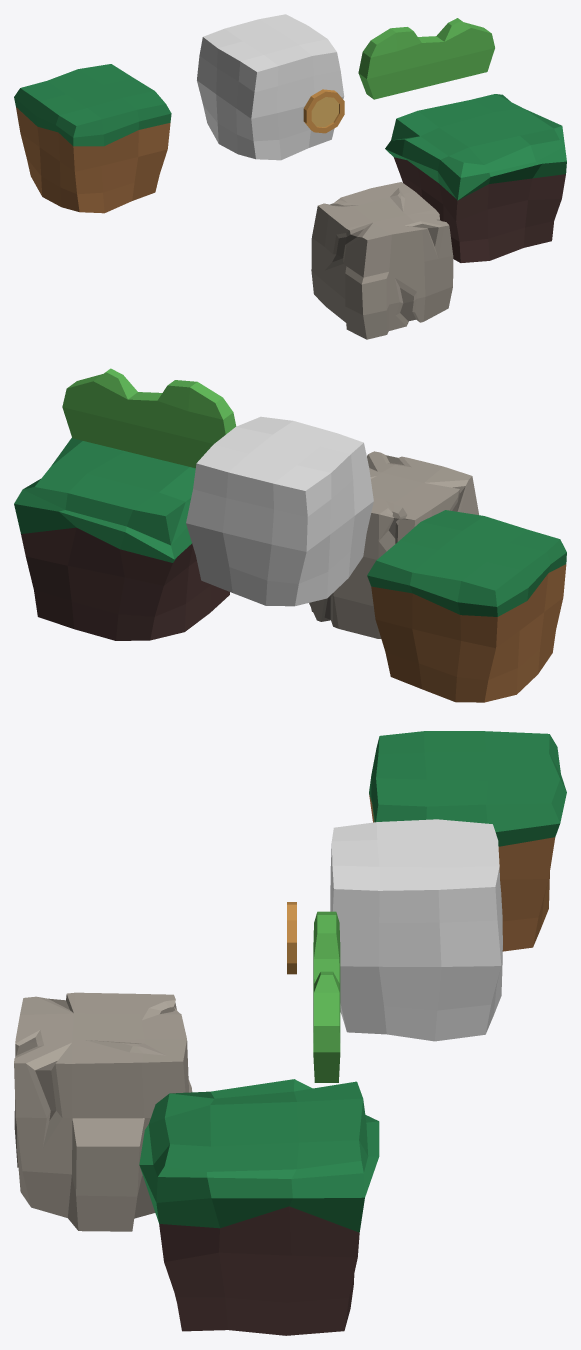
File: gameRunnerPlat.fbx
3 views of the same model, one above another, from view 1: azimuth 30°, elevation 25°; view 2: azimuth 150°, elevation 25°; view 3: azimuth 270°, elevation 25° (orthographic). The views are drawn at different scales.
Parts seen in each view (by area): view 1: Grass, Grass2, Stone, Cube.001, Shrub, Coin; view 2: Grass, Grass2, Cube.001, Shrub, Stone; view 3: Grass, Cube.001, Stone, Grass2, Shrub.
Boxes of the visible parts, x1,y1,x2,y2 form: Grass: [385, 94, 566, 262]; Grass2: [14, 64, 171, 213]; Stone: [311, 182, 453, 339]; Cube.001: [197, 14, 344, 160]; Shrub: [358, 18, 494, 99]; Coin: [303, 89, 344, 133]; Grass: [14, 438, 229, 640]; Grass2: [367, 510, 566, 702]; Cube.001: [186, 416, 373, 606]; Shrub: [62, 368, 236, 468]; Stone: [309, 451, 478, 638]; Grass: [139, 1079, 379, 1335]; Cube.001: [330, 819, 502, 1041]; Stone: [14, 992, 192, 1231]; Grass2: [369, 731, 566, 951]; Shrub: [313, 911, 340, 1082].
Size of the model in its own units: 939 by 434 by 639.
